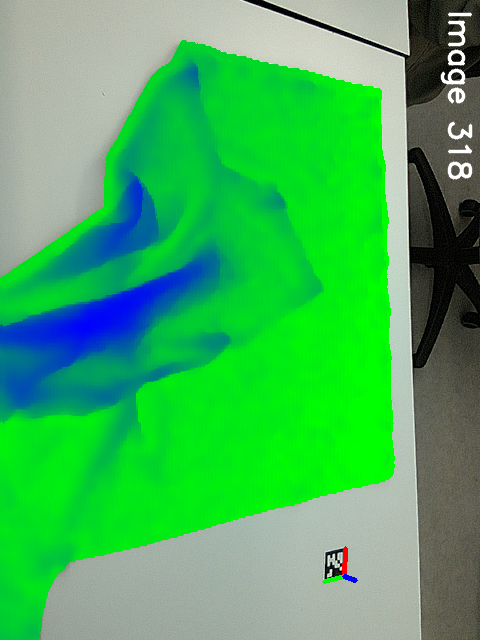V: (280, 261, 348, 315)
